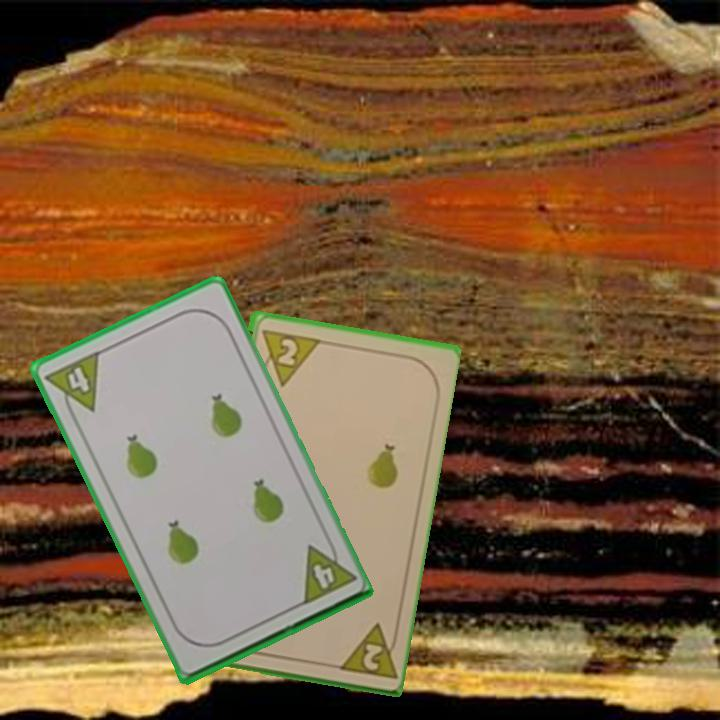2p: (331, 619, 401, 681), (257, 325, 320, 389)
4p: (41, 347, 102, 423), (296, 534, 357, 609)
